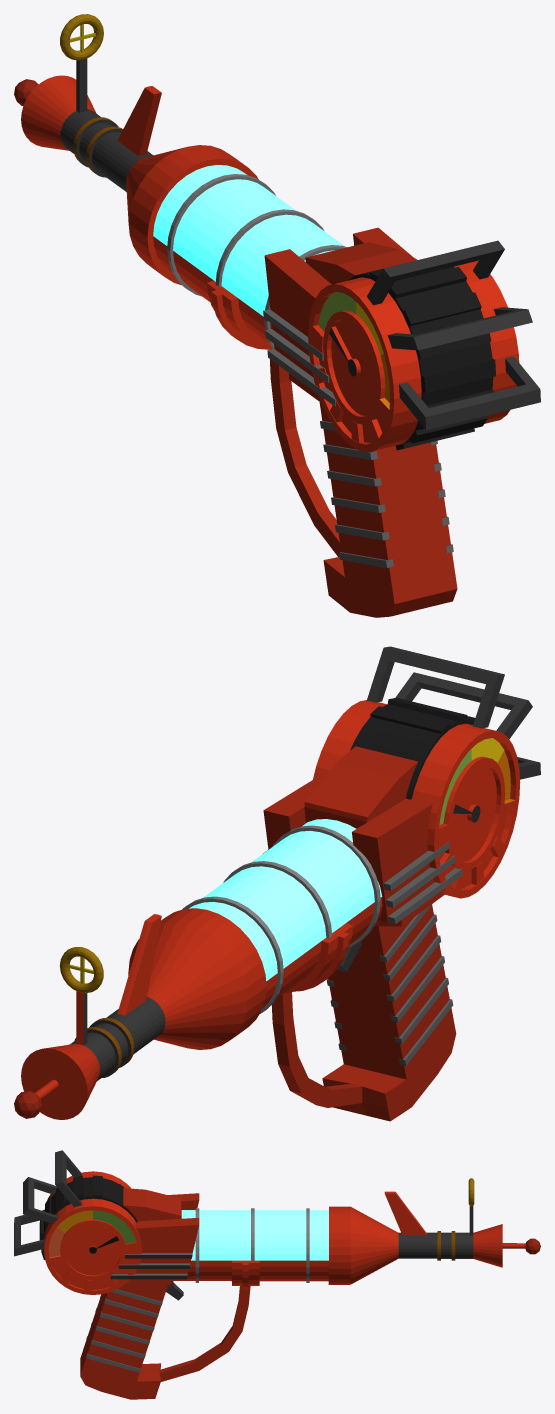
File: raygun.gltf
3 renders of one model, top to bottom at view 1: azimuth 30°, elevation 25°; view 2: azimuth 150°, elevation 25°; view 3: azimuth 270°, elevation 25°, orthographic. The views are drawn at different scales.
Parts seen in each view (by area): view 1: Cube; view 2: Cube; view 3: Cube.
Boxes of the visible parts, left/top/right/bottom form: Cube: left=14, top=14, right=540, bottom=617; Cube: left=14, top=646, right=540, bottom=1121; Cube: left=14, top=1150, right=540, bottom=1399.
Bounding box in the file's own units: 2.46 × 6.98 × 14.84.
2 materials, 1 textured.
